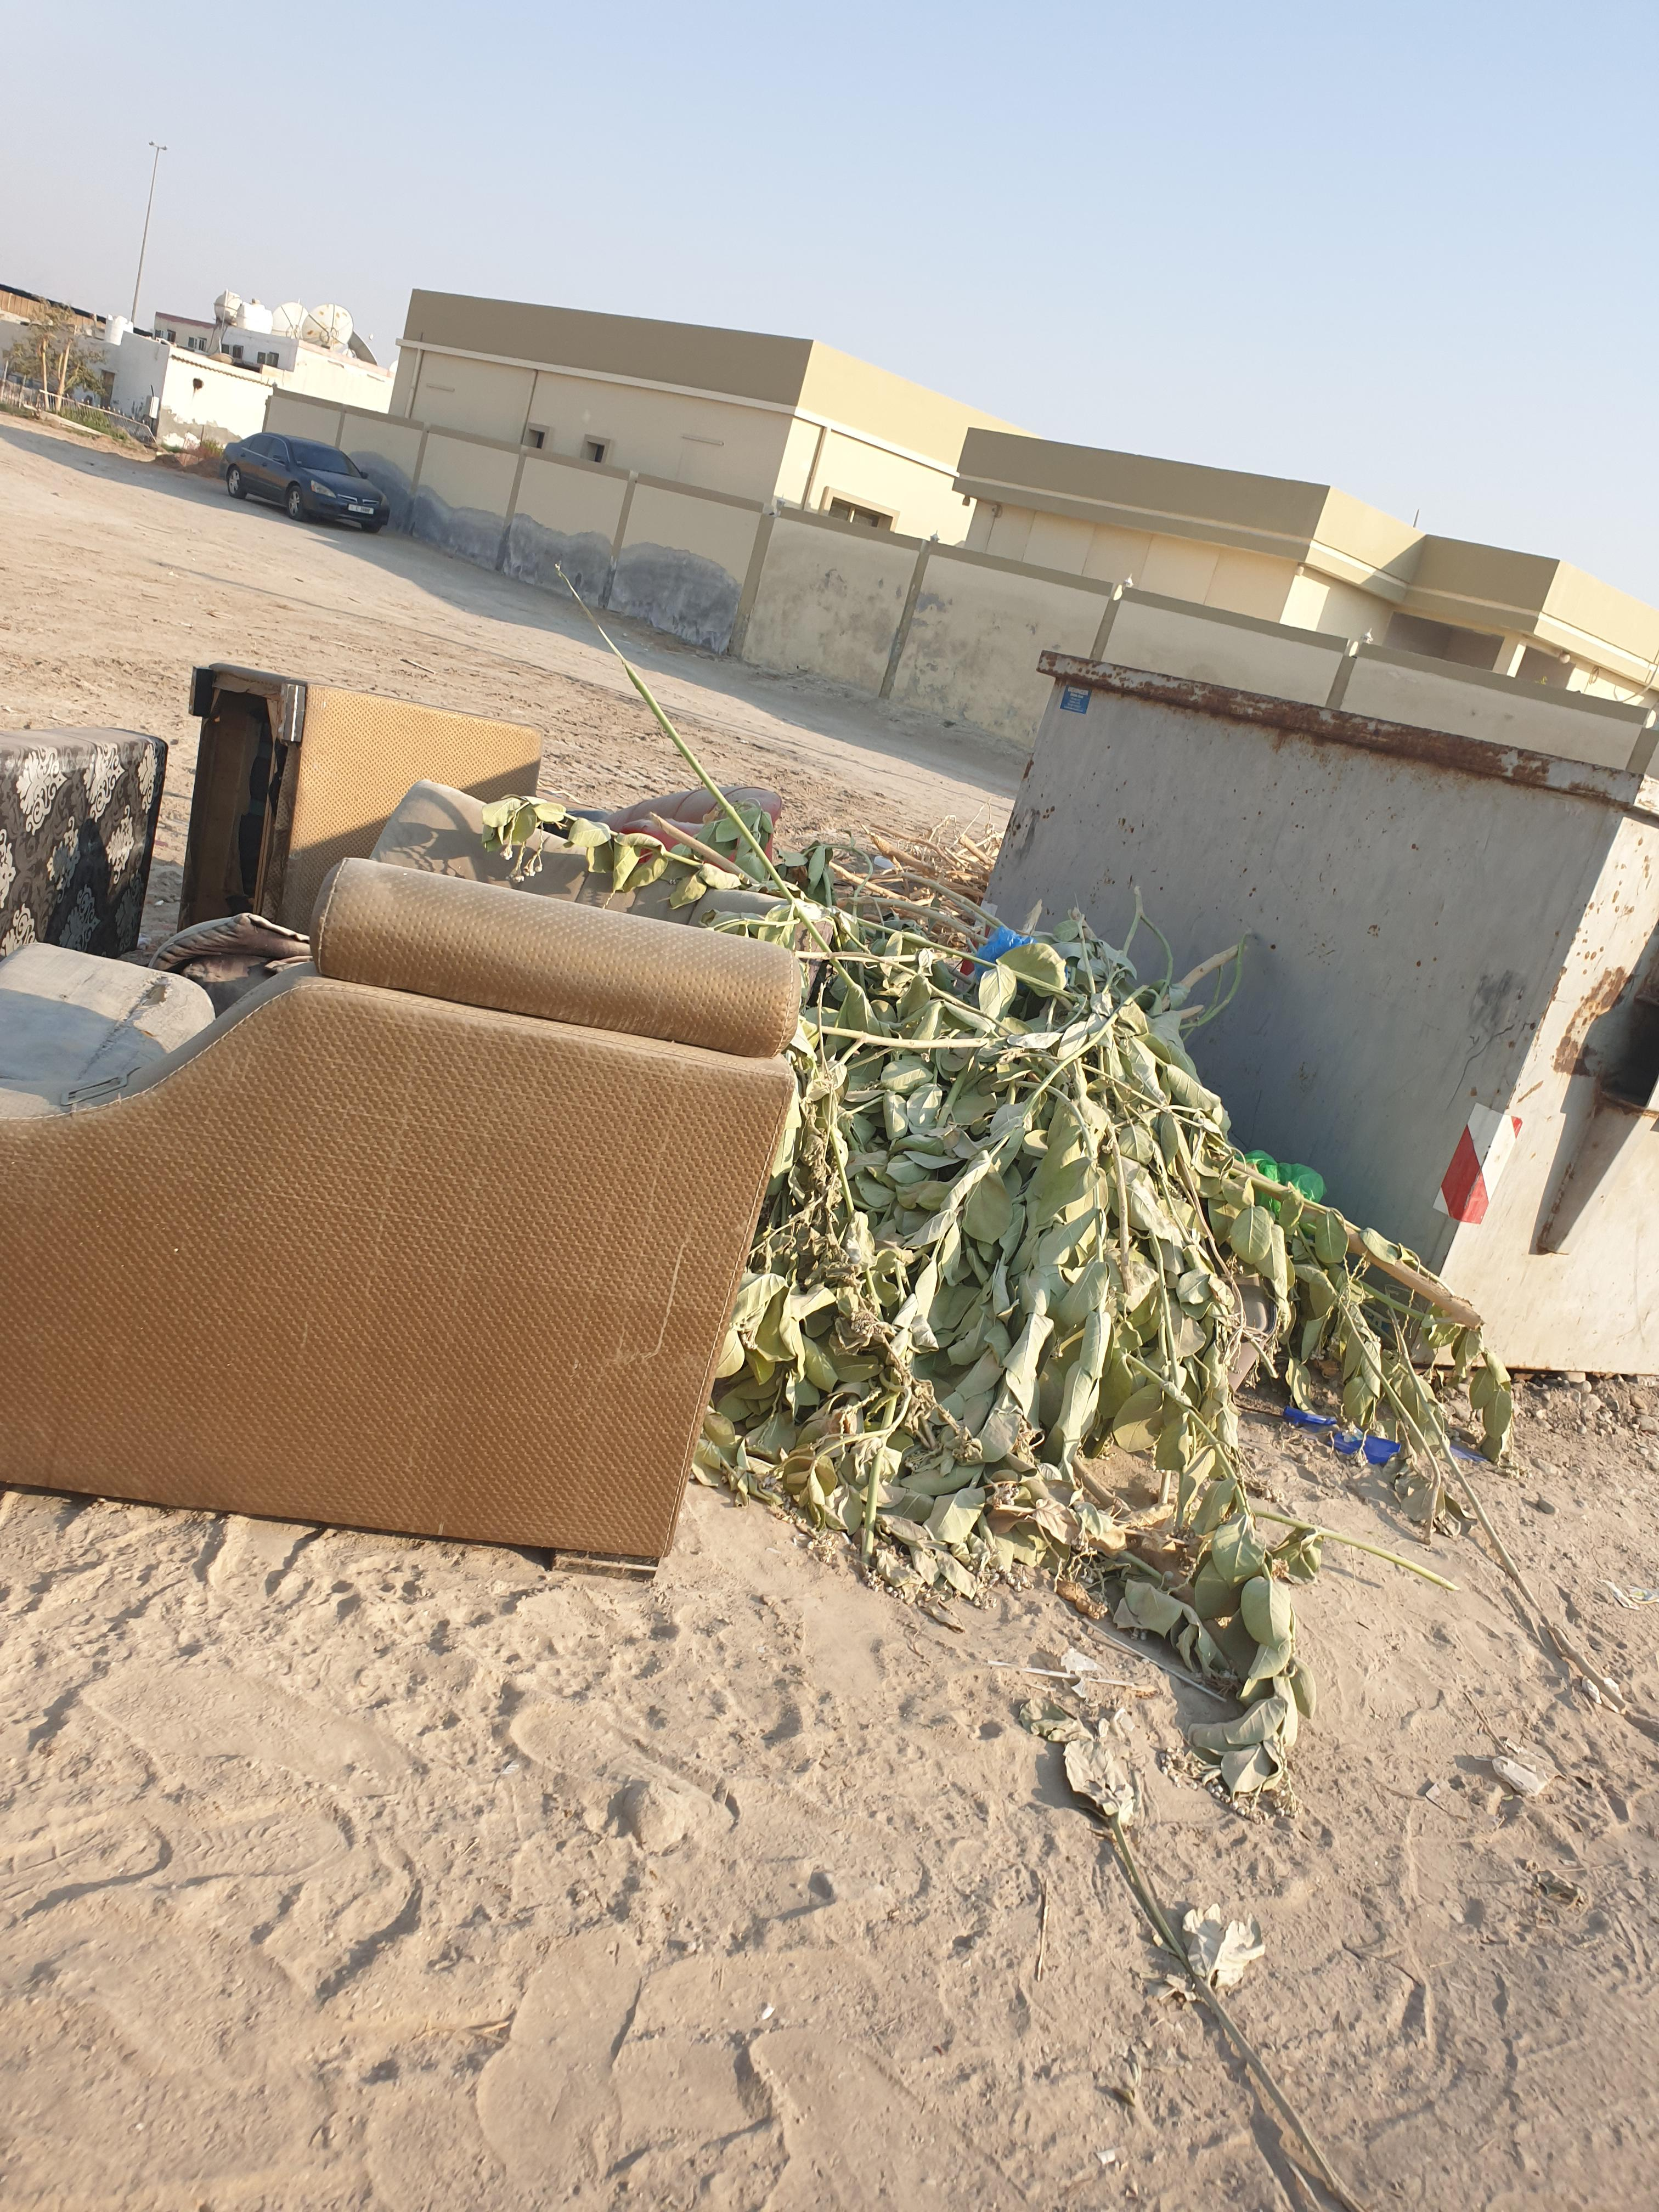fallen_trees: (1019, 1296, 1565, 1803), (868, 1085, 1370, 1635), (793, 1299, 1354, 1738)
uncollected_waste: (24, 674, 798, 1709), (202, 763, 788, 1620), (150, 911, 741, 1573), (117, 615, 471, 1045)
